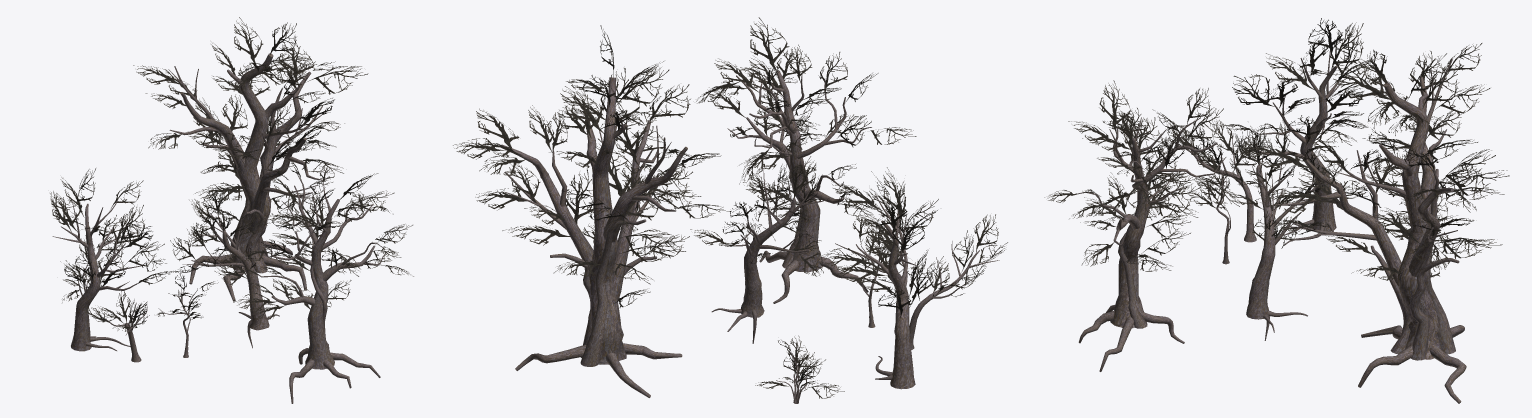
The model's file is trees.fbx.
3 renders of one model, left to right at view 1: azimuth 30°, elevation 25°; view 2: azimuth 150°, elevation 25°; view 3: azimuth 270°, elevation 25°, orthographic. The views are drawn at different scales.
Parts seen in each view (by area): view 1: tree6, branch_4, branch_3, tree5, branch_, tree2, branch, tree1, branch_2, branch__2, branch_5, tree4; view 2: tree6, branch_4, branch_3, tree5, branch_, tree2, branch, tree1, branch_2, branch_5, tree4; view 3: tree6, branch_4, branch_3, tree5, branch_, tree1, tree2, branch, branch_2, tree4, branch__2.
Boxes of the visible parts, x1,y1,x2,y2 form: tree6: (168, 53, 328, 301); branch_4: (133, 17, 368, 223); branch_3: (233, 154, 413, 319); tree5: (252, 174, 386, 403); branch_: (50, 168, 178, 288); tree2: (52, 198, 146, 351); branch: (170, 187, 272, 285); tree1: (182, 211, 279, 348); branch_2: (82, 290, 149, 332); branch__2: (157, 270, 218, 319); branch_5: (60, 235, 104, 302); tree4: (96, 302, 147, 362); tree6: (500, 77, 687, 397); branch_4: (453, 25, 730, 307); branch_3: (696, 17, 916, 218); tree5: (727, 70, 871, 303); branch_: (818, 167, 938, 317); tree2: (835, 193, 917, 389); branch: (690, 156, 823, 276); tree1: (711, 169, 829, 343); branch_2: (910, 214, 1007, 301); branch_5: (755, 335, 844, 398); tree4: (909, 241, 999, 349); tree6: (1275, 58, 1466, 403); branch_4: (1236, 43, 1509, 281); branch_3: (1044, 80, 1239, 271); tree5: (1076, 117, 1226, 371); branch_: (1219, 18, 1382, 160); tree1: (1246, 145, 1336, 340); tree2: (1252, 49, 1343, 245); branch: (1229, 117, 1367, 248); branch_2: (1152, 109, 1266, 188); tree4: (1169, 131, 1256, 242); branch__2: (1187, 152, 1229, 210).
Bounding box in the file's own units: 4174 × 3021 × 3791.
